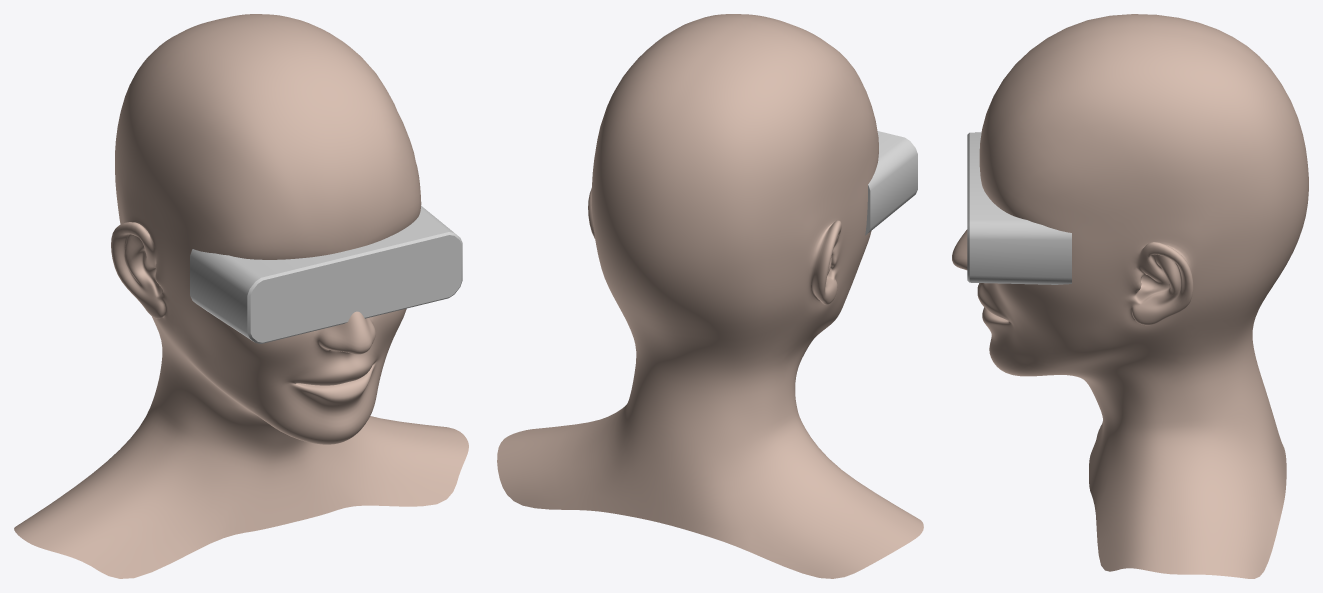
The model's file is AvatarHead.fbx.
3 renders of one model, left to right at view 1: azimuth 30°, elevation 25°; view 2: azimuth 150°, elevation 25°; view 3: azimuth 270°, elevation 25°, orthographic. The views are drawn at different scales.
Visible parts, largest first — view 1: Head, Cube; view 2: Head, Cube; view 3: Head, Cube.
Part boxes in pixels (left/top/right/bottom): Head: left=14, top=14, right=468, bottom=578; Cube: left=190, top=206, right=462, bottom=343; Head: left=497, top=14, right=923, bottom=578; Cube: left=865, top=131, right=917, bottom=235; Head: left=952, top=14, right=1308, bottom=578; Cube: left=967, top=132, right=1071, bottom=284.
Size of the model in its own units: 110 by 119 by 82.25.
